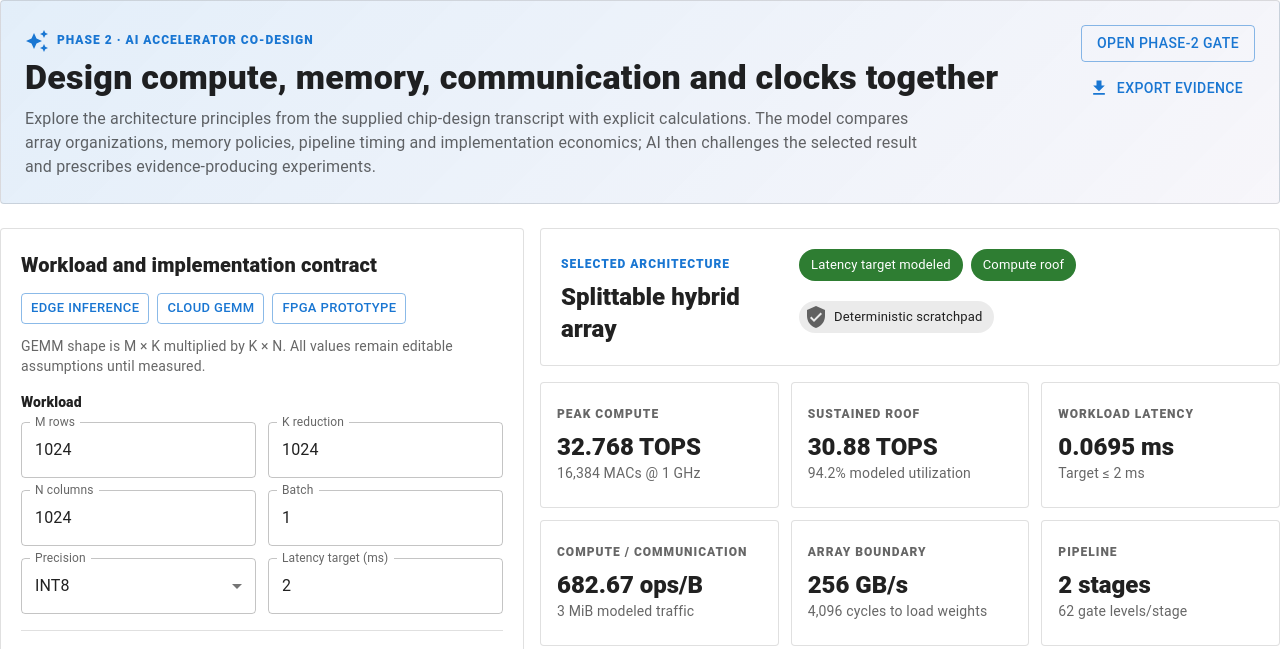
fills each architecture field from distinct presets without sending an AI request
Click the button "Edge inference": (85, 308) [21,293,149,324]
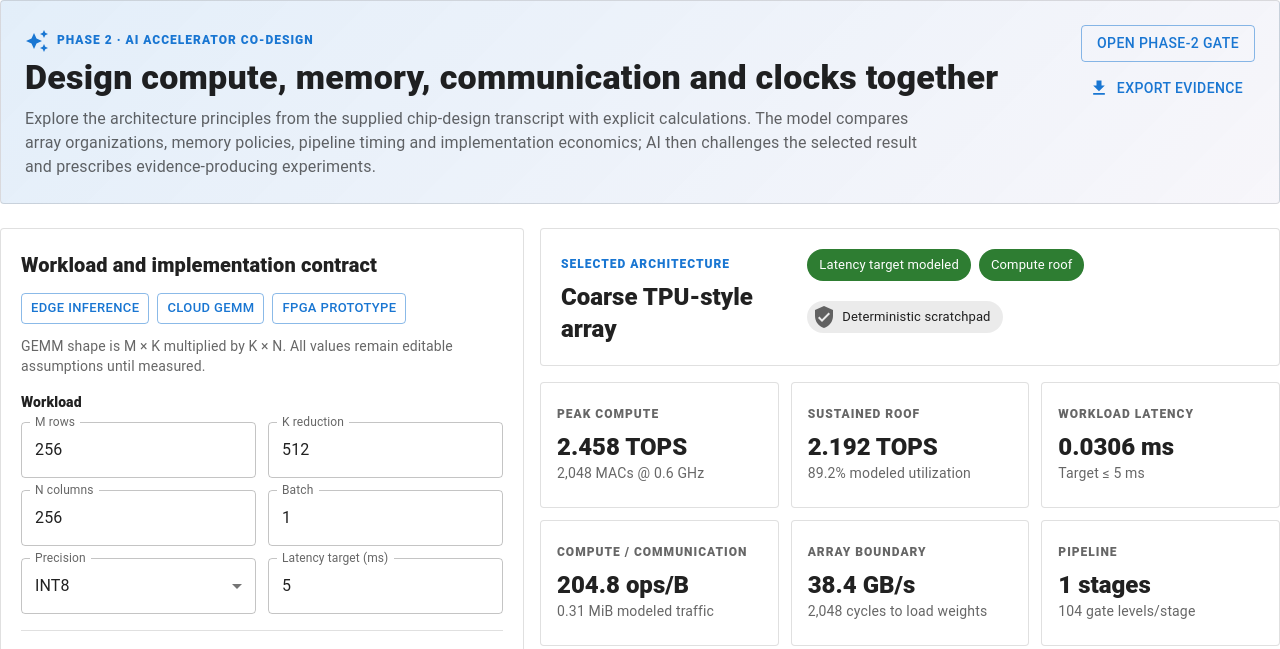
Expected: the number field labelled "M rows" is not empty, [21,422,256,478]
Click the button "Cloud GEMM": (211, 308) [157,293,264,324]
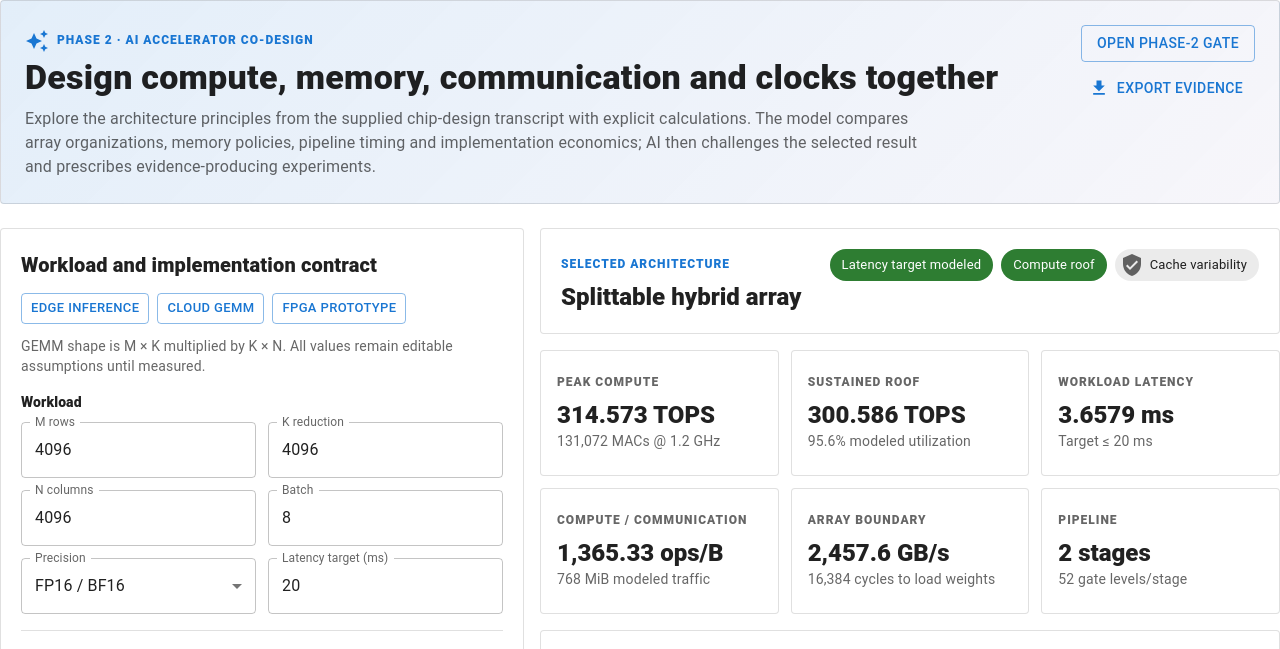
Expected: the number field labelled "M rows" is not empty, [21,422,256,478]
Click the button "FPGA prototype": (339, 308) [272,293,406,324]
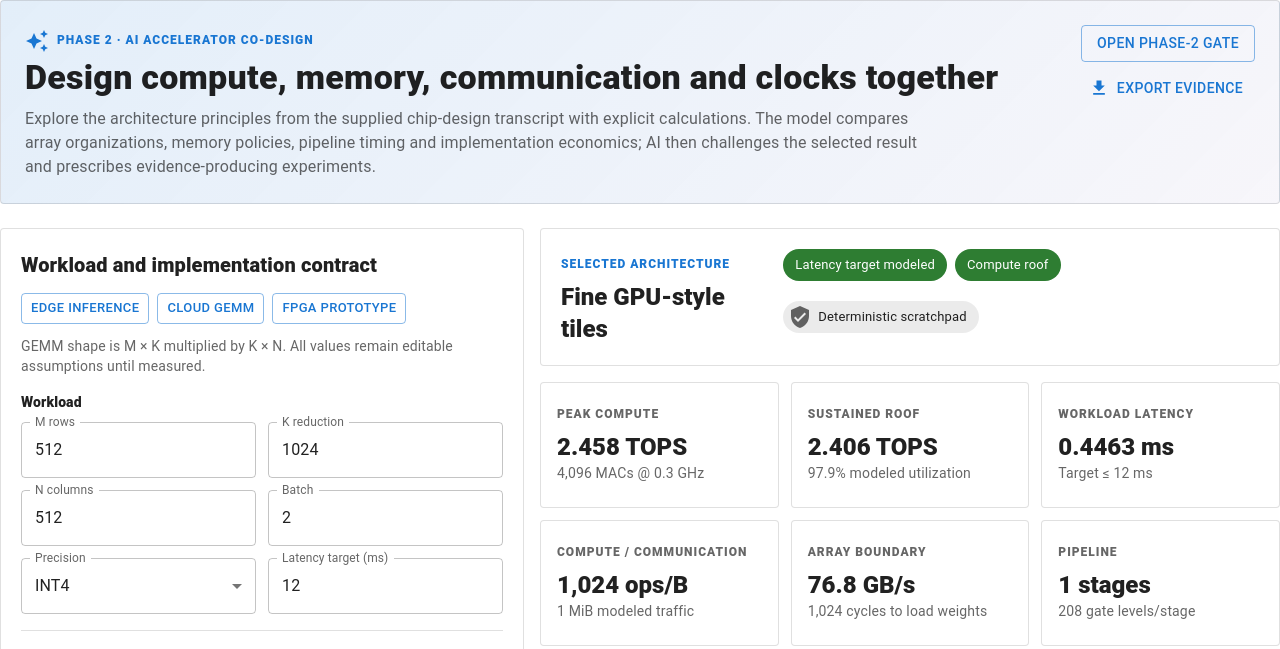
Expected: the number field labelled "M rows" is not empty, [21,422,256,478]
Expected: the number field labelled "M rows" holds "512", [21,422,256,478]
